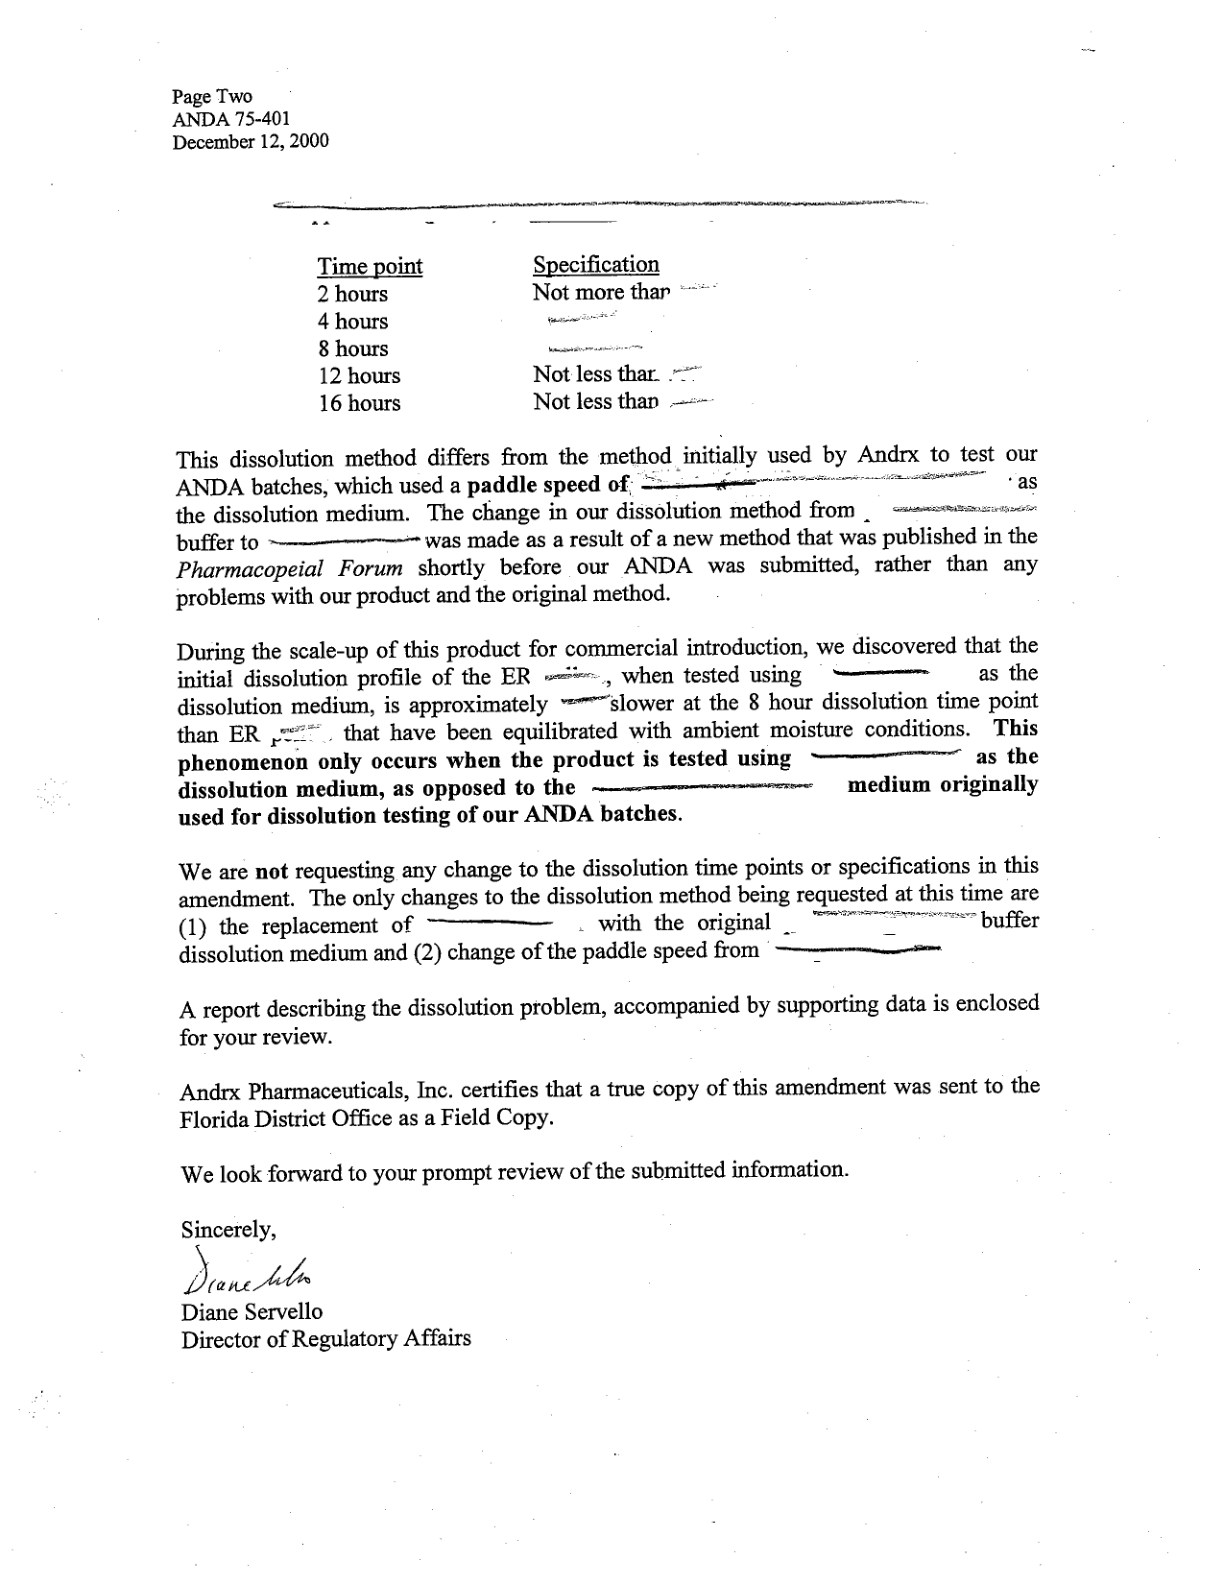nolines: (312, 252, 715, 411)
